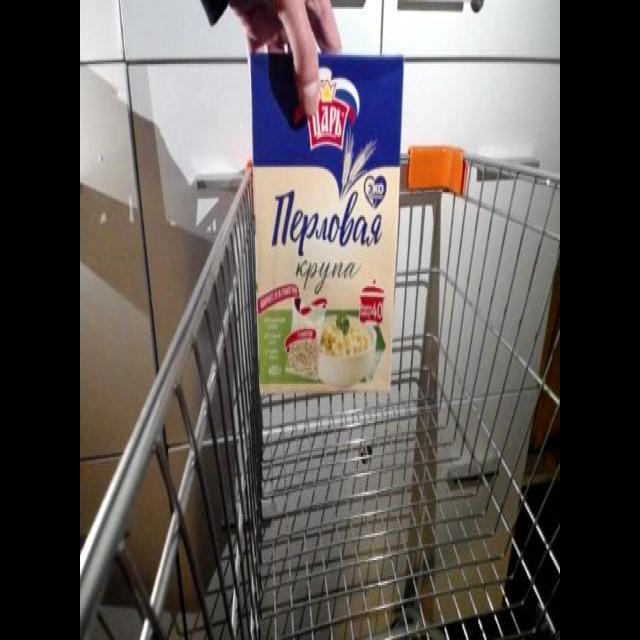Groats: (246, 44, 407, 398)
